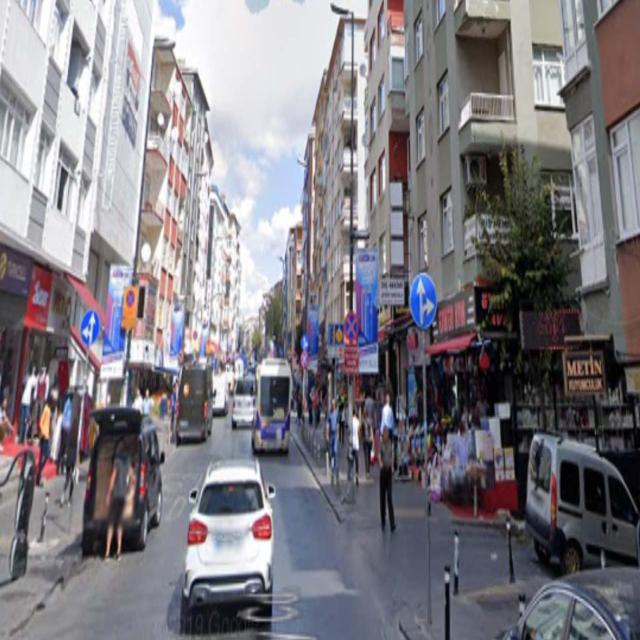ilerisag: (409, 274, 439, 328)
ilerisol: (82, 306, 101, 346)
